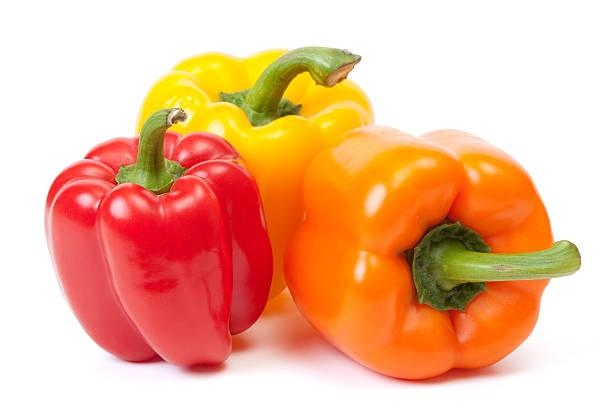Capsicum: (46, 48, 579, 379)
